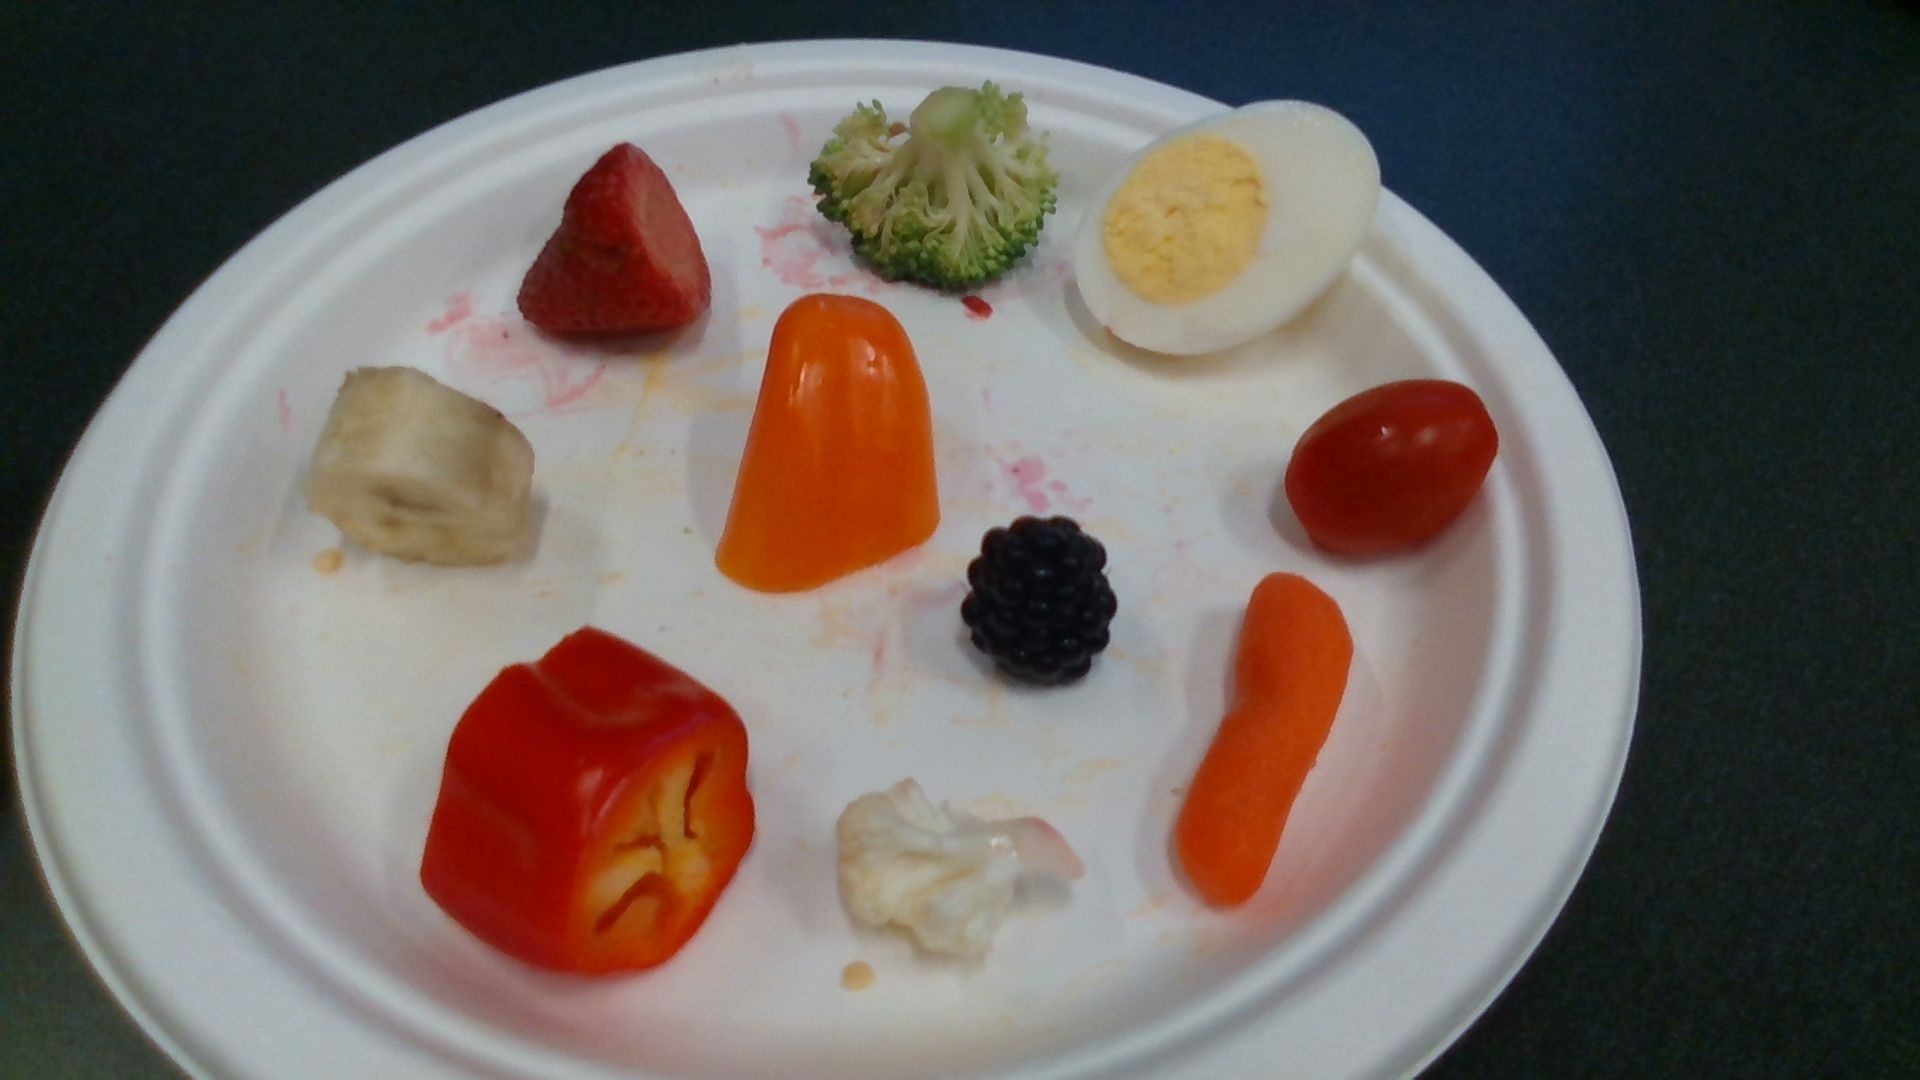banana: (310, 367, 535, 564)
bell_pepper: (419, 630, 754, 978), (717, 295, 939, 591)
blackberry: (971, 518, 1117, 686)
broccoli: (810, 80, 1054, 285)
carrot: (1179, 574, 1354, 906)
cauliflower: (835, 781, 1080, 953)
cherry_tomato: (1284, 382, 1497, 556)
egg: (1073, 98, 1379, 360)
strawberry: (520, 145, 712, 335)
